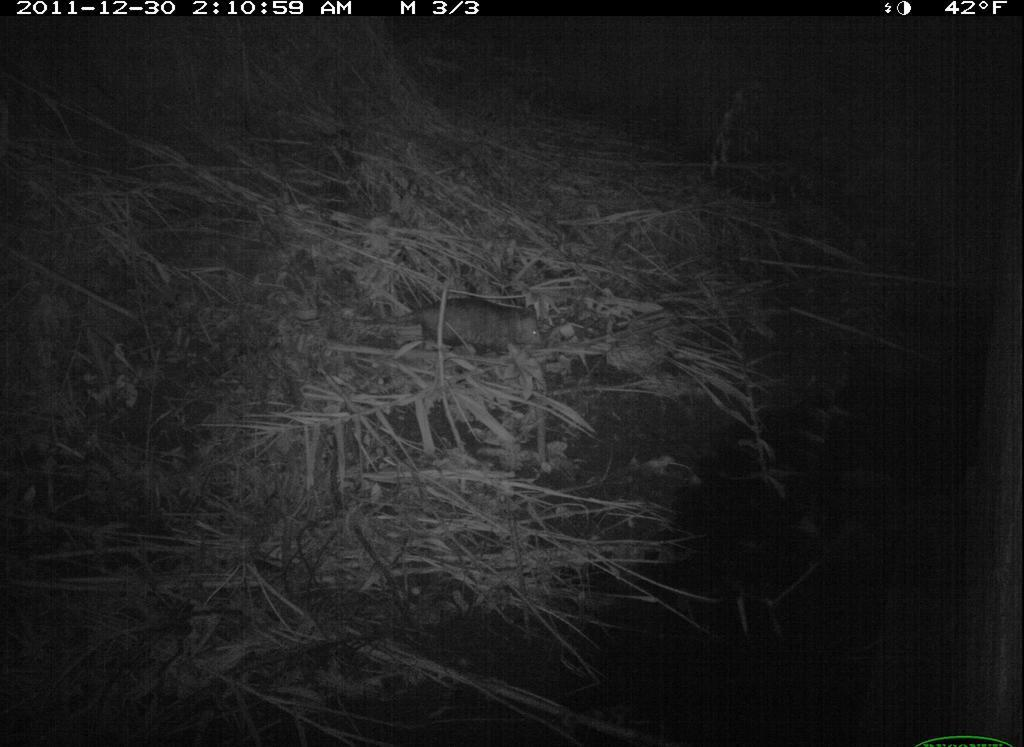opossum: (354, 289, 556, 369)
